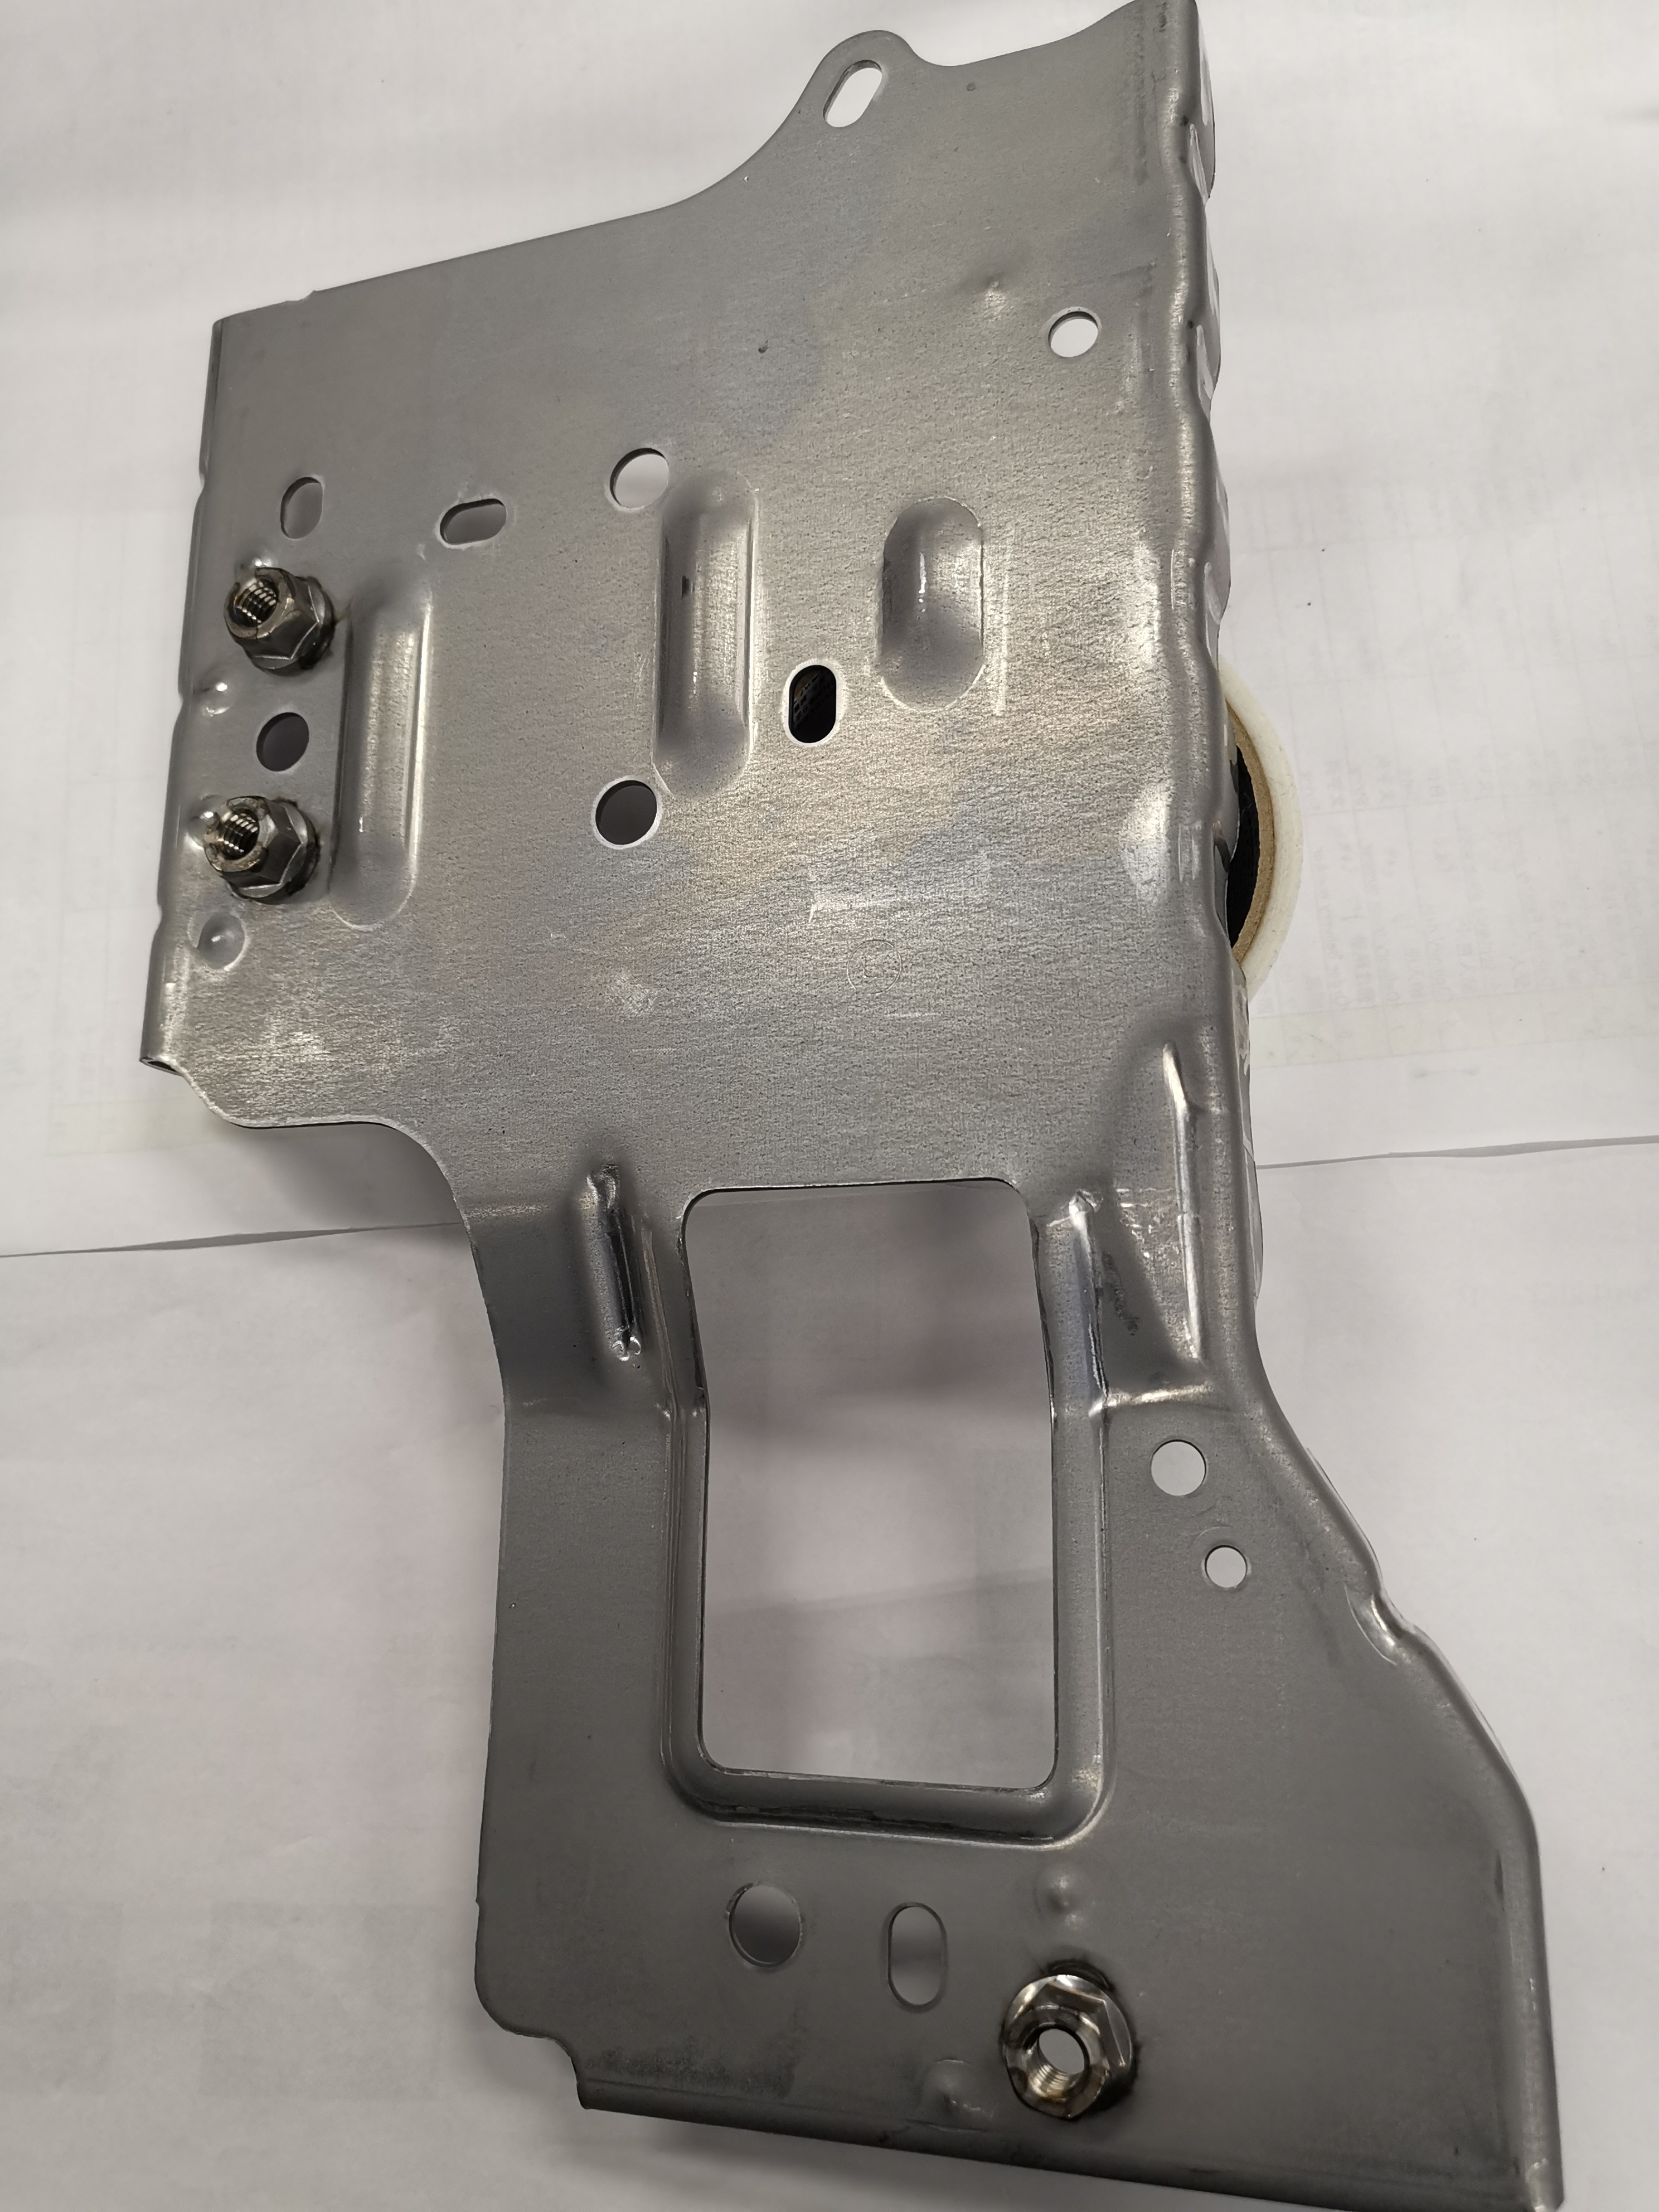dog: (988, 1963, 1141, 2125), (221, 563, 345, 683), (197, 791, 326, 906)
